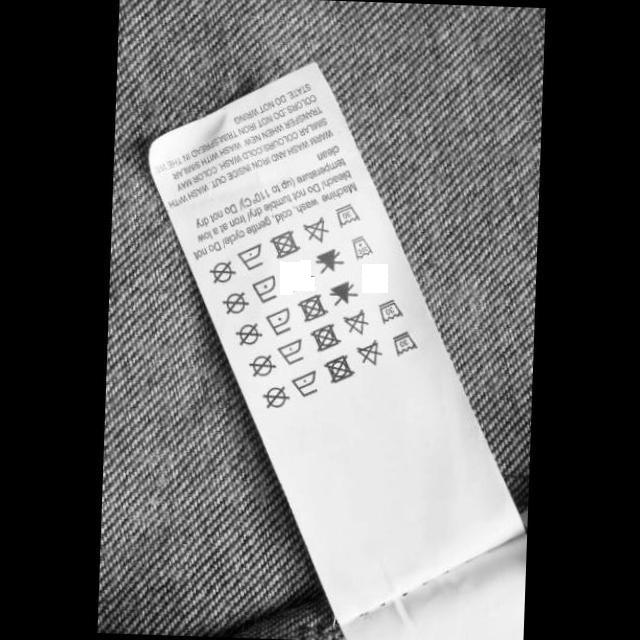30C: (330, 201, 360, 229), (375, 298, 404, 326), (390, 329, 418, 357), (348, 234, 373, 262)
DN_bleach: (326, 278, 358, 308), (312, 246, 344, 276), (353, 337, 382, 368), (299, 215, 329, 244), (339, 308, 368, 337)
DN_dry_clean: (232, 320, 263, 347), (244, 352, 276, 378), (218, 290, 249, 316), (206, 258, 236, 284), (259, 384, 290, 409)
DN_tumble_dry: (293, 291, 328, 324), (320, 352, 354, 385), (266, 228, 300, 261), (308, 321, 342, 353)
iron_low: (246, 272, 278, 304), (232, 241, 264, 272), (262, 305, 292, 338), (274, 335, 304, 367), (288, 368, 318, 399)
